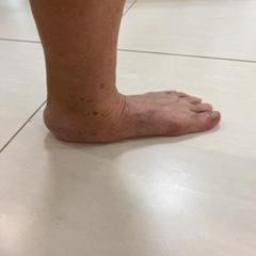Medial View -Left Foot-: (28, 61, 229, 167)
